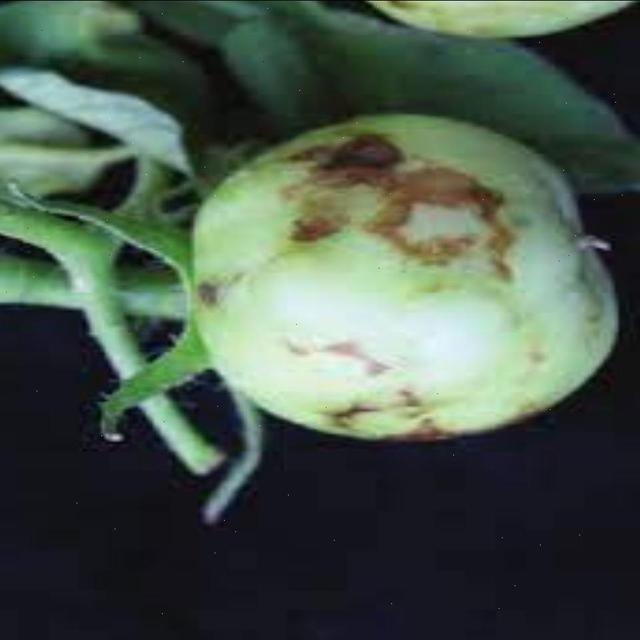Spotted wilt Virus Fruit: (110, 146, 355, 439)
